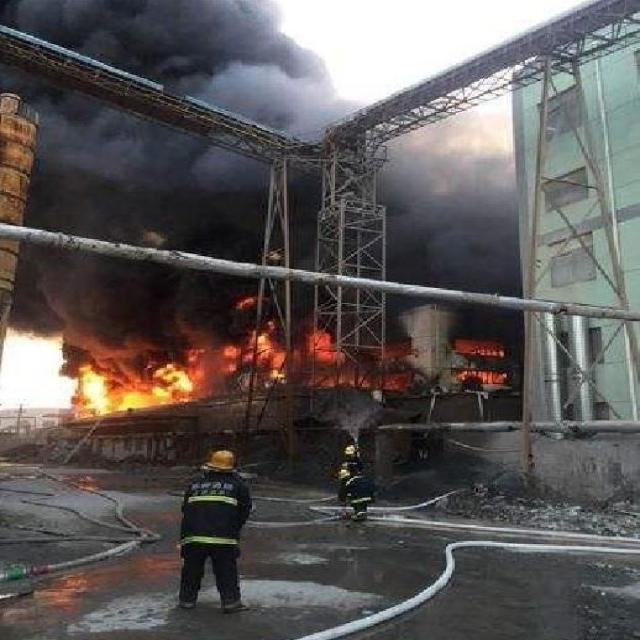Fire: (72, 361, 196, 418), (224, 330, 286, 380), (305, 328, 335, 362), (454, 369, 506, 386)
Smoke: (1, 1, 520, 384)
